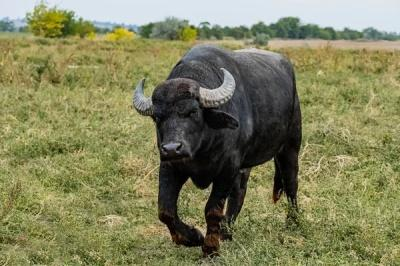buffalo: (133, 44, 301, 256)
